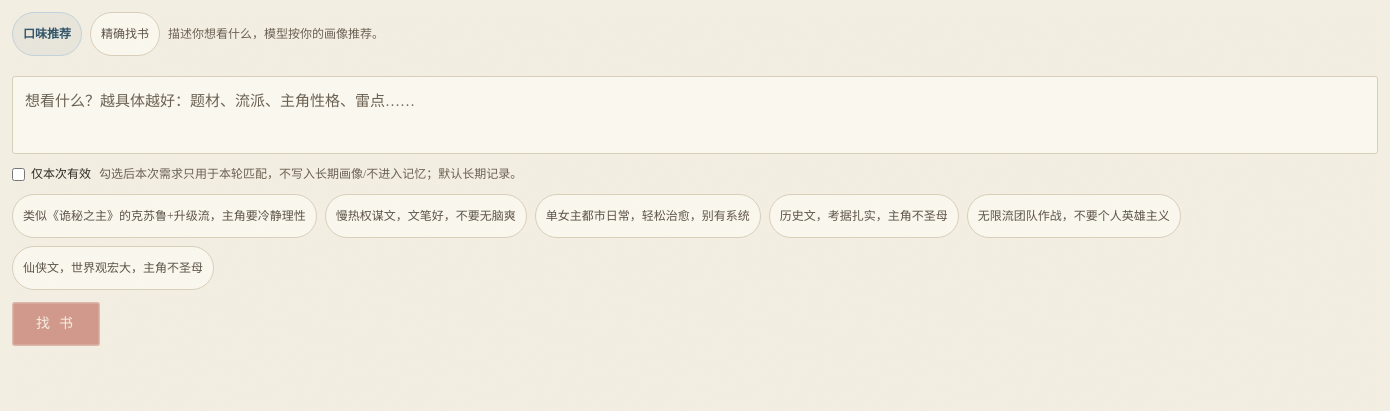
Test case: 找书多步骤请求的真实会话代际 › 同会话切找书模式保留进行中的三步结果
The width and height of the screenshot is (1390, 411).
Type "合成查询" into the text box named "找书需求" at (695, 115), box [12,76,1378,154]
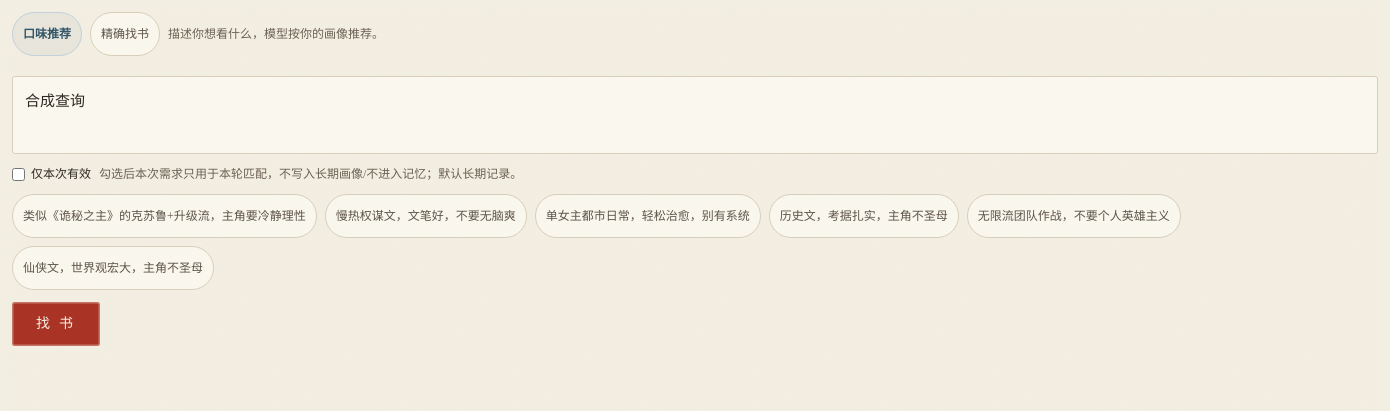
Click the checkbox labelled "仅本次有效" at (18, 174), box [12,168,25,180]
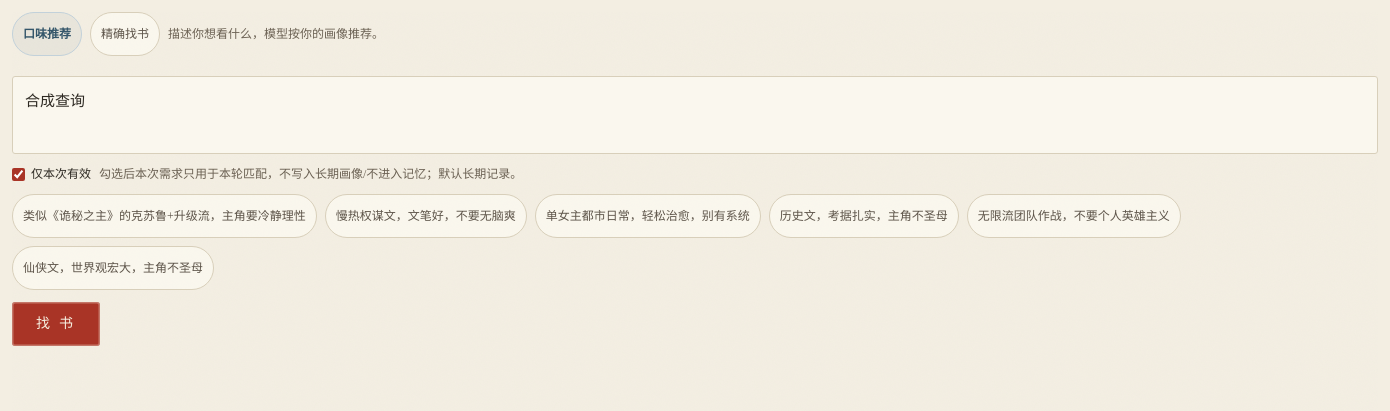
Click the button "找 书" at (56, 324), box [12,302,100,346]
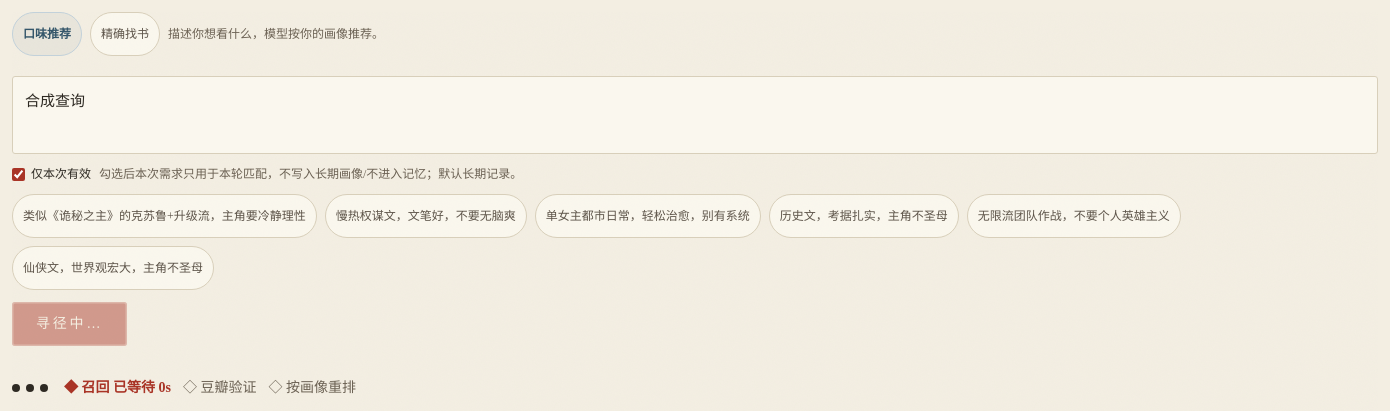
Click the tab "精确找书" at (125, 34), box [90,12,160,56]
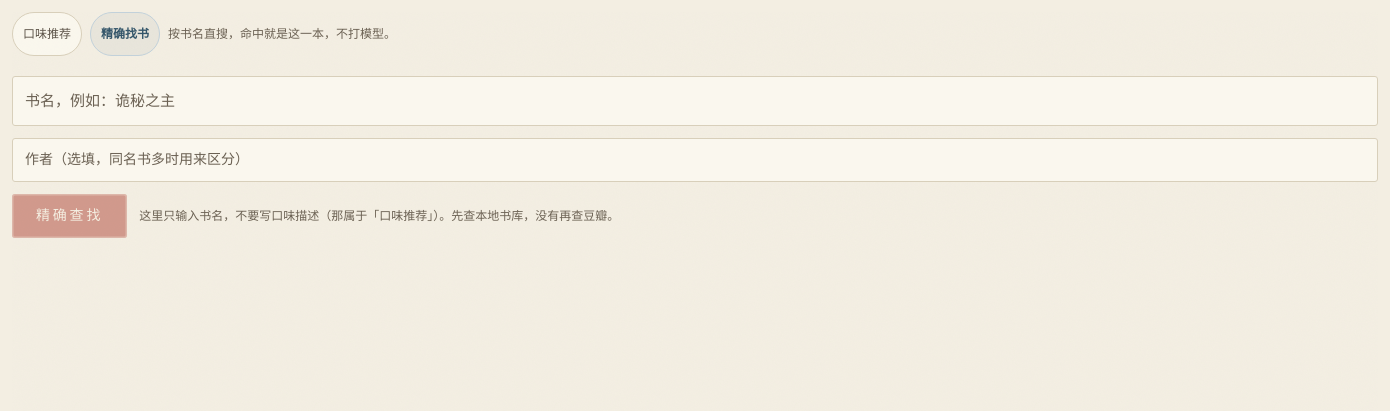
Click the tab "口味推荐" at (47, 34), box [12,12,82,56]
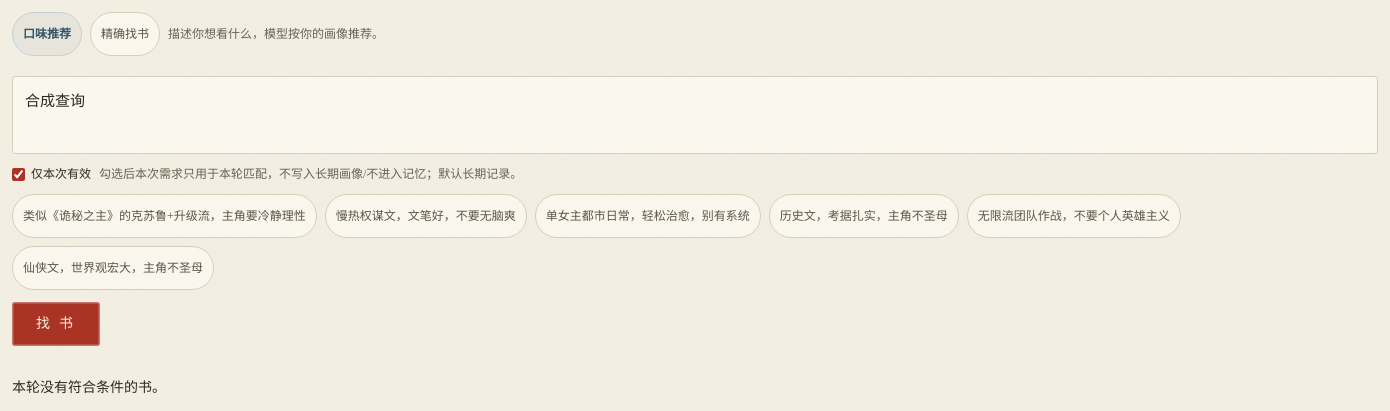
Check: the button "找 书" is enabled, box [12,302,100,346]
